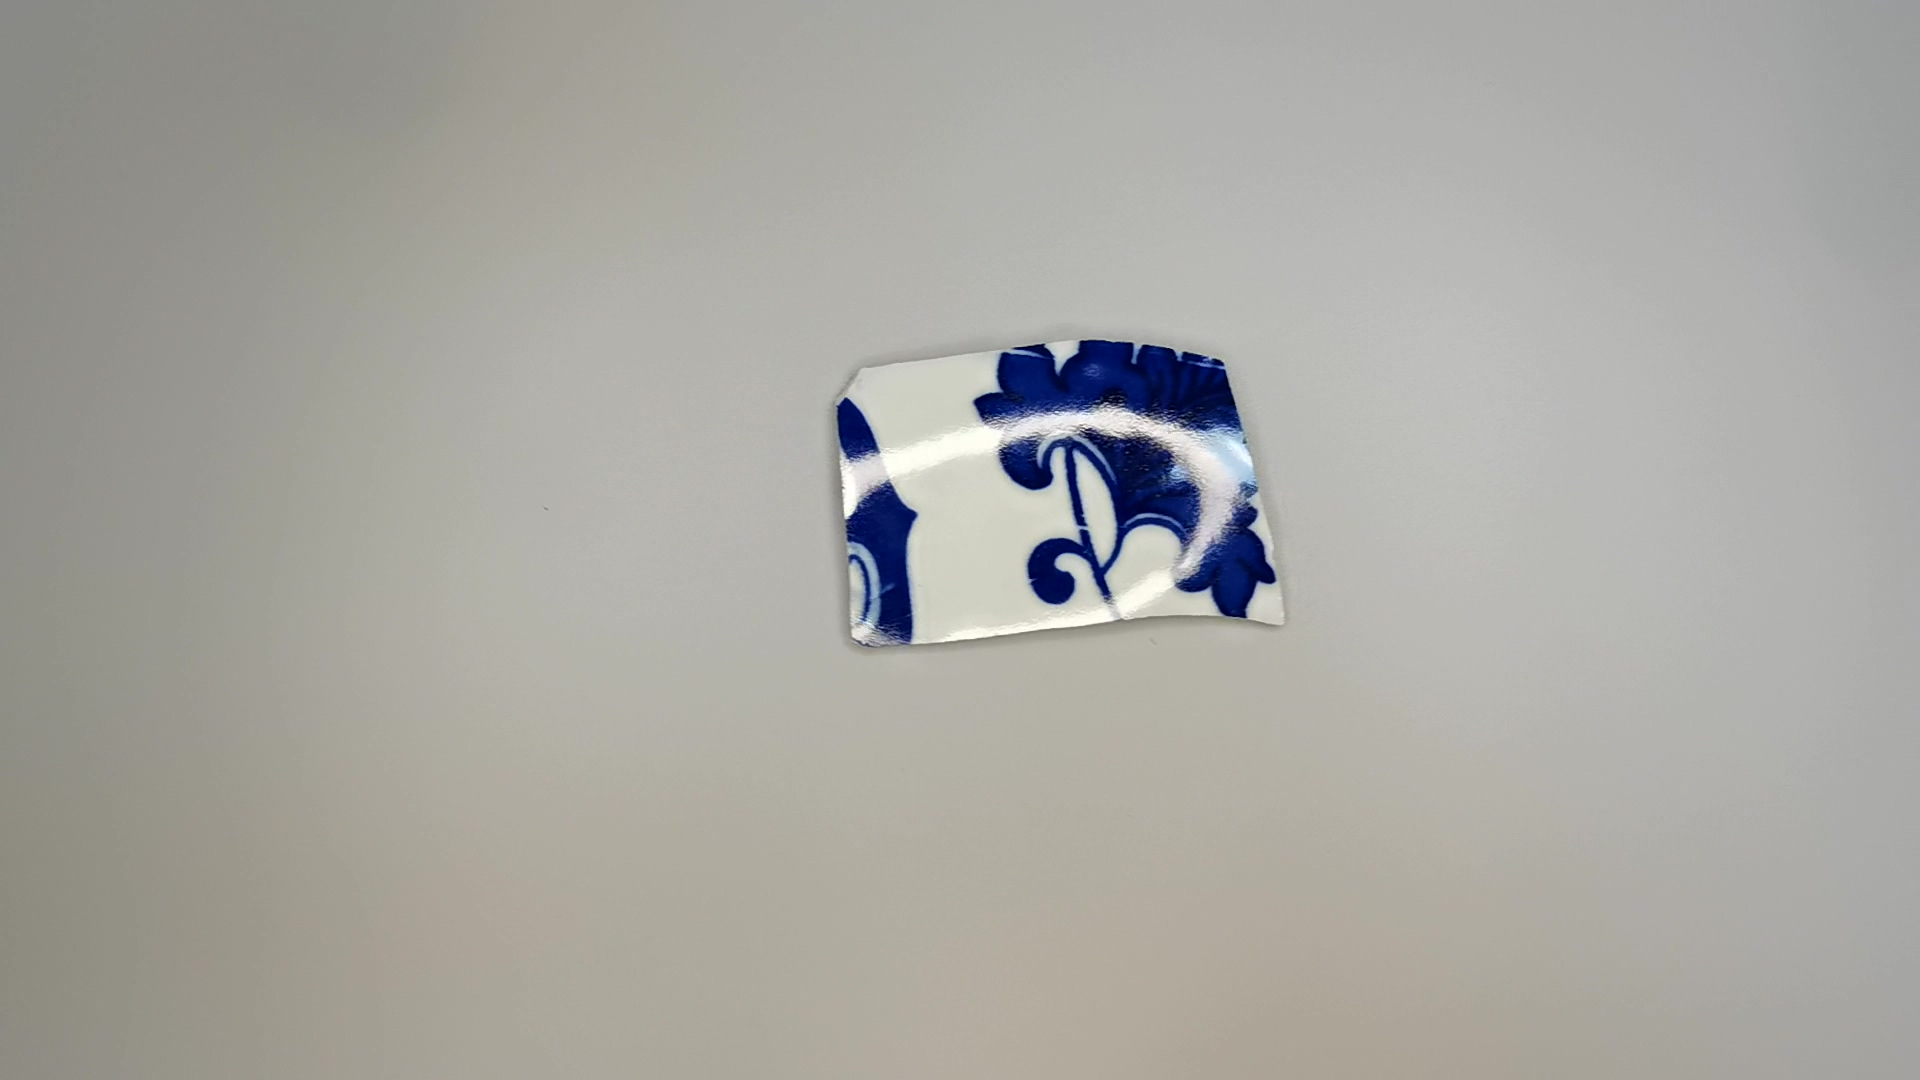ceramic: (829, 338, 1292, 655)
